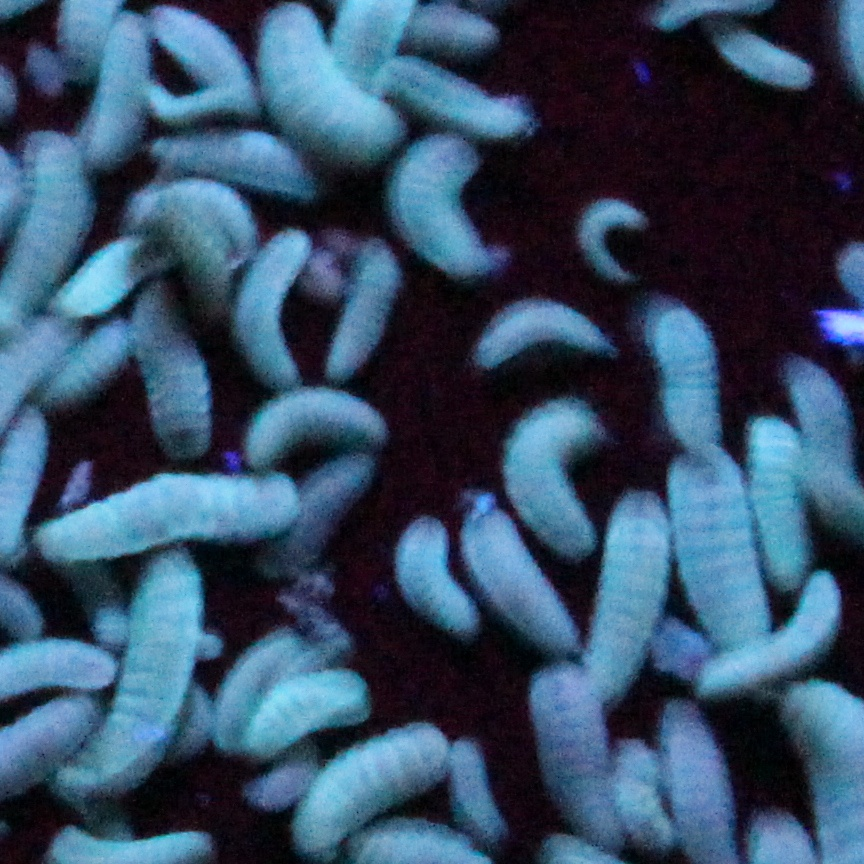larve: (52, 542, 206, 800), (33, 477, 304, 566), (519, 660, 634, 856), (298, 715, 462, 844), (378, 117, 504, 279), (455, 494, 578, 652), (694, 572, 850, 694), (1, 125, 97, 323), (633, 284, 733, 450), (224, 221, 318, 397), (503, 396, 603, 558), (458, 289, 615, 372), (746, 414, 814, 597), (137, 292, 213, 455), (240, 379, 389, 461), (391, 507, 484, 638), (702, 15, 822, 99), (575, 195, 655, 304), (252, 675, 375, 744), (445, 734, 508, 847), (53, 320, 129, 401)
